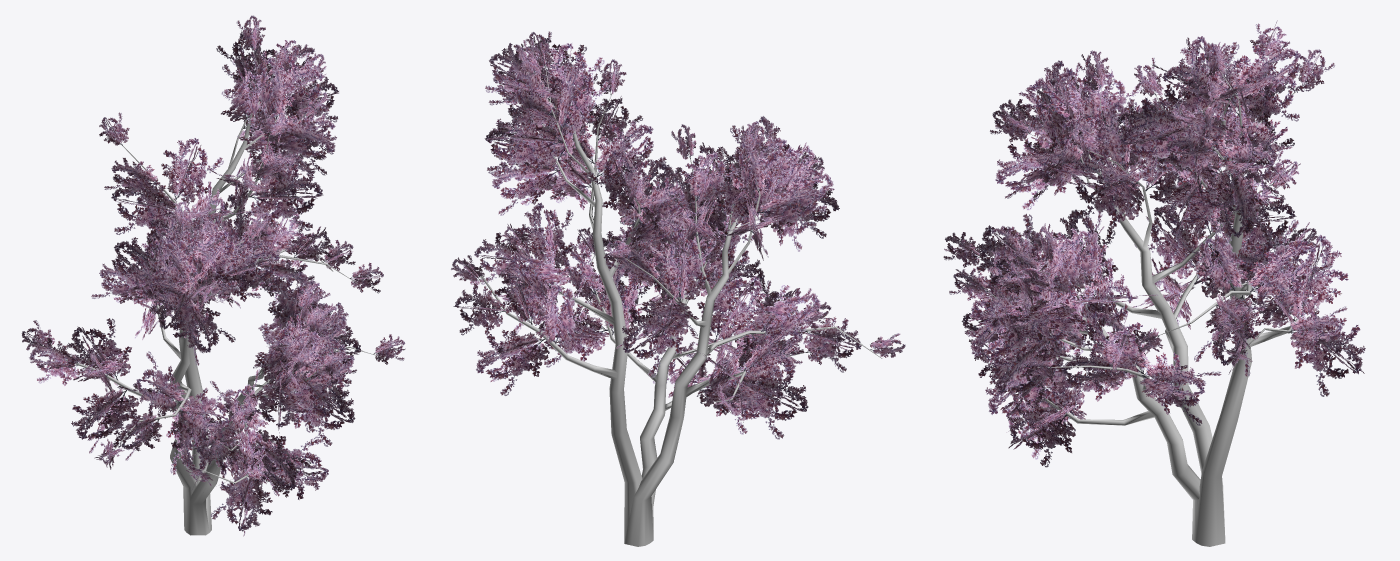
The model's file is TreeWaxCherry-red3-mobile.fbx.
The picture shows the model from 3 angles, left to right: view 1: azimuth 30°, elevation 25°; view 2: azimuth 150°, elevation 25°; view 3: azimuth 270°, elevation 25°; orthographic projection. The views are drawn at different scales.
Parts seen in each view (by area): view 1: TreeWaxCherry-red3-mobile_LOD0; view 2: TreeWaxCherry-red3-mobile_LOD0; view 3: TreeWaxCherry-red3-mobile_LOD0.
Part boxes in pixels (left/top/right/bottom): TreeWaxCherry-red3-mobile_LOD0: left=21, top=15, right=405, bottom=536; TreeWaxCherry-red3-mobile_LOD0: left=451, top=31, right=905, bottom=546; TreeWaxCherry-red3-mobile_LOD0: left=943, top=20, right=1365, bottom=546.
Size of what is drawn, in the model's own units: 471 by 608 by 434.
